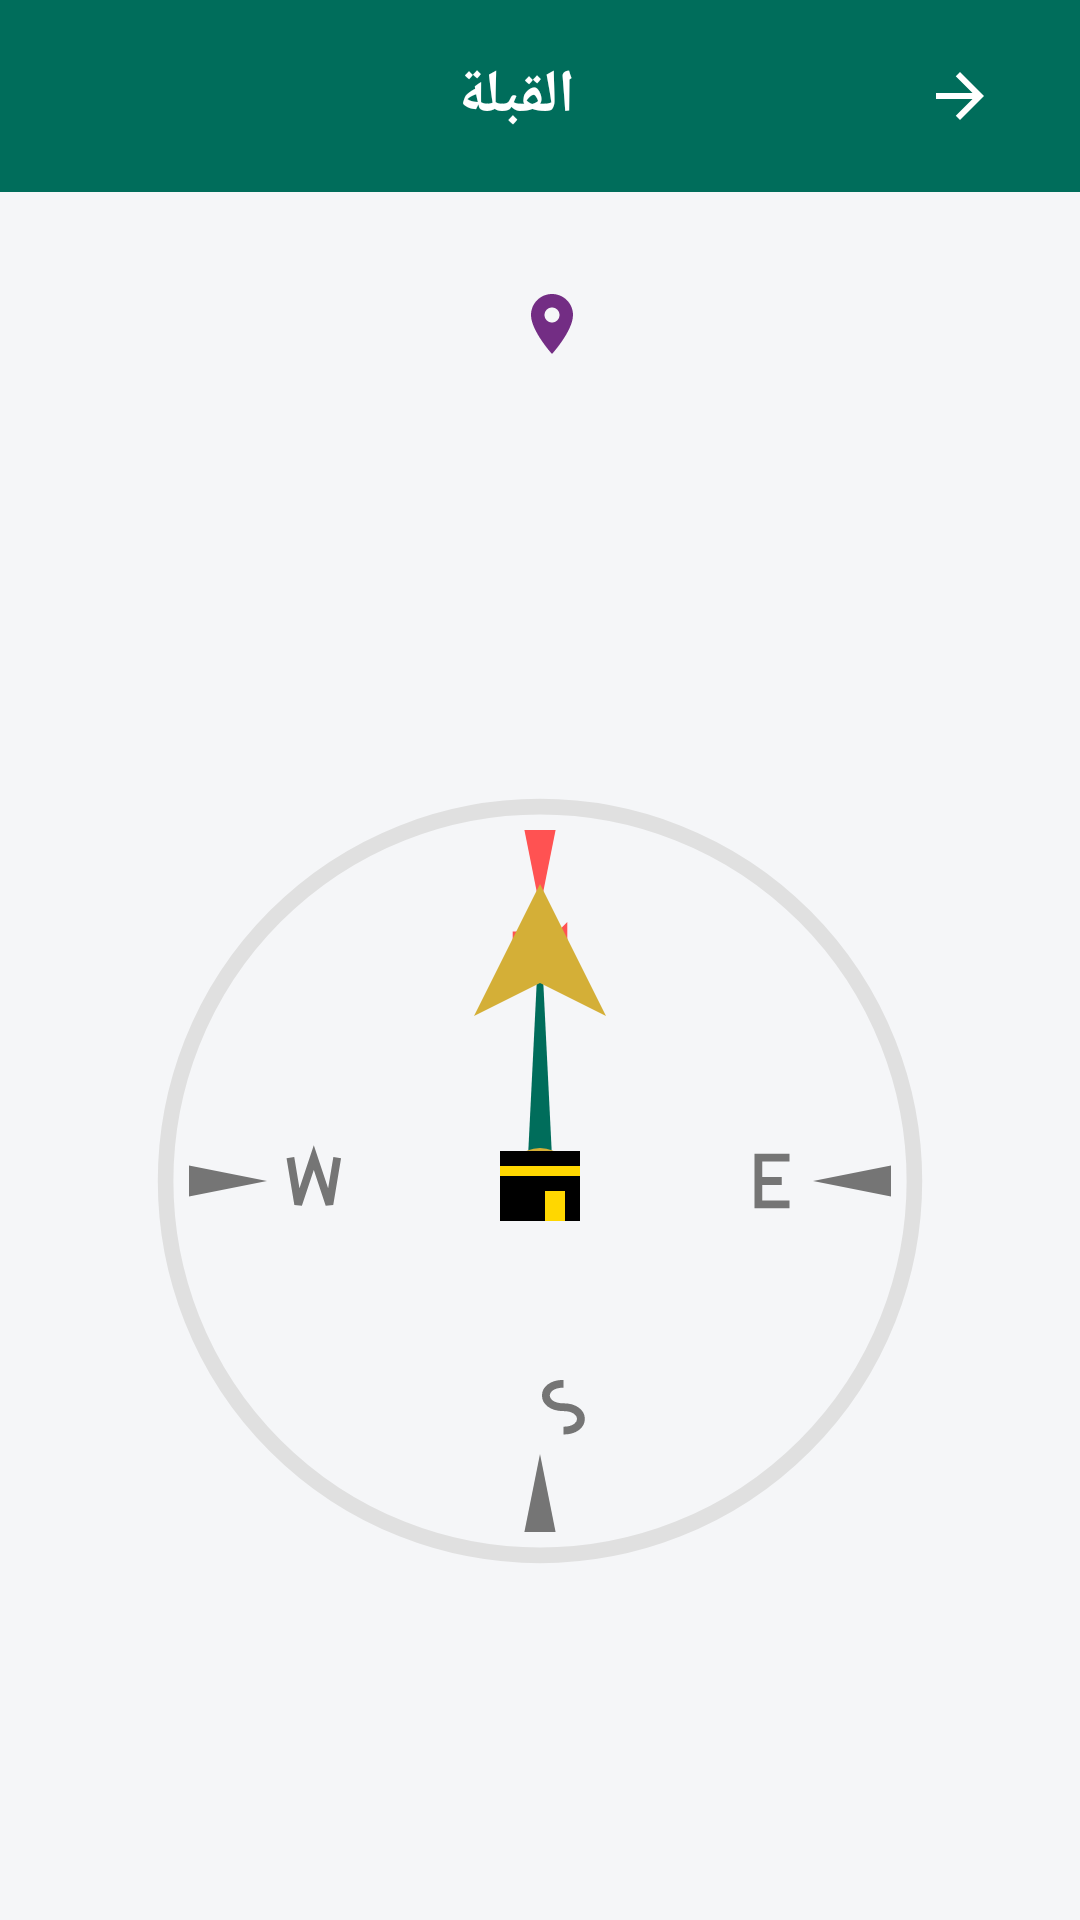

Icons on this 1080px×1920px Android screen, each with its box as (x1, y1, x2, y2):
kaaba: (500, 1121, 580, 1221)
